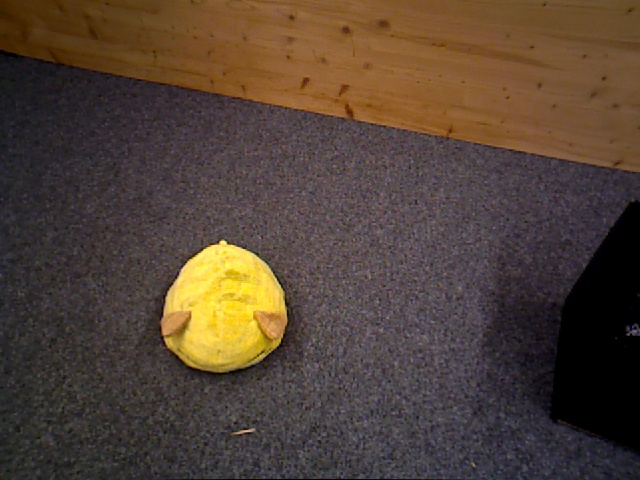grasp: (160, 238, 286, 372)
push: (552, 202, 639, 459)
